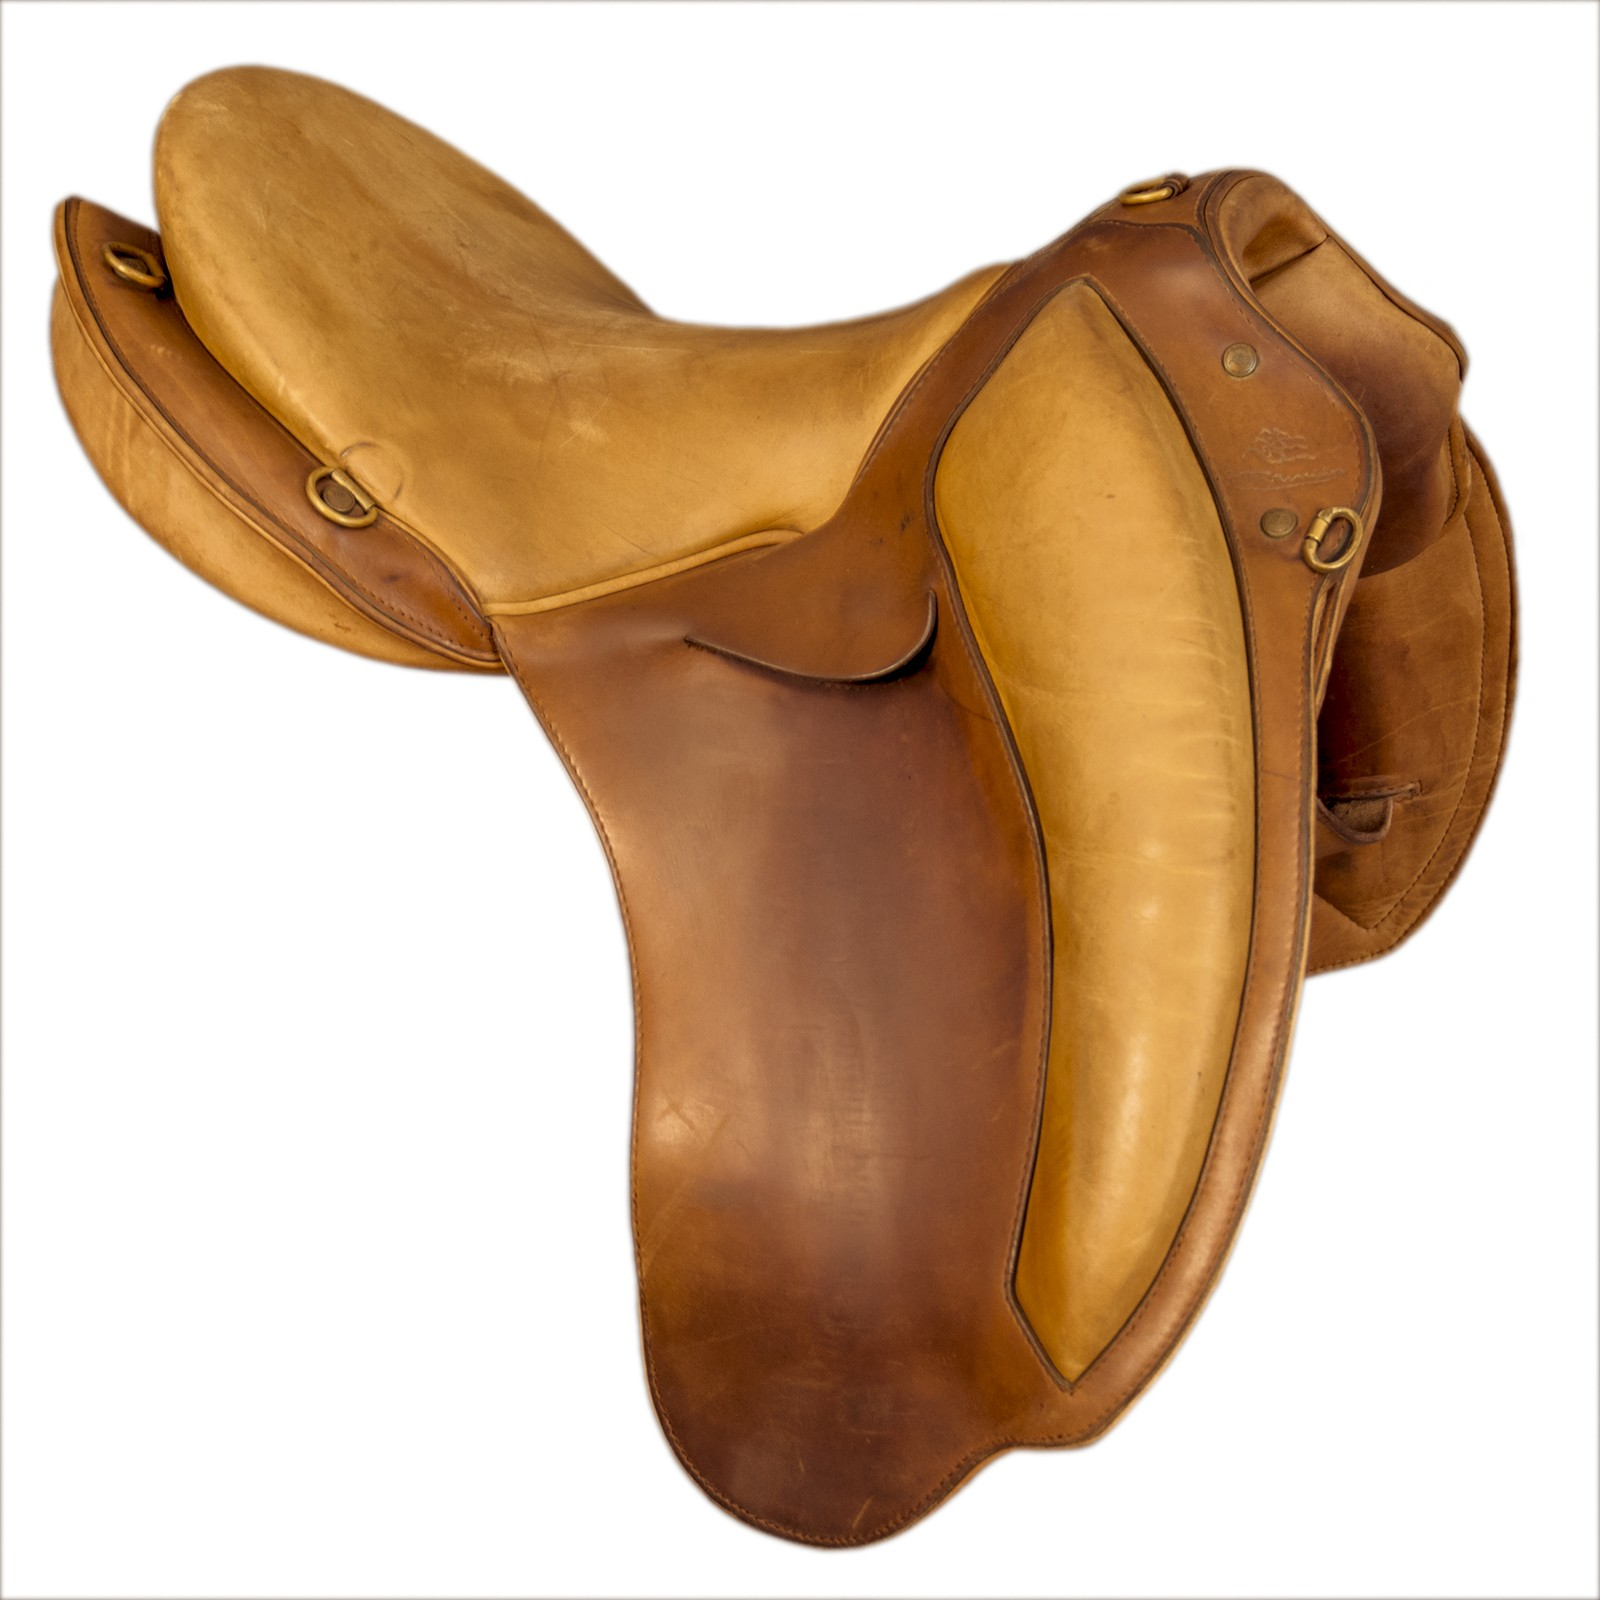saddle: (34, 51, 1565, 1370)
